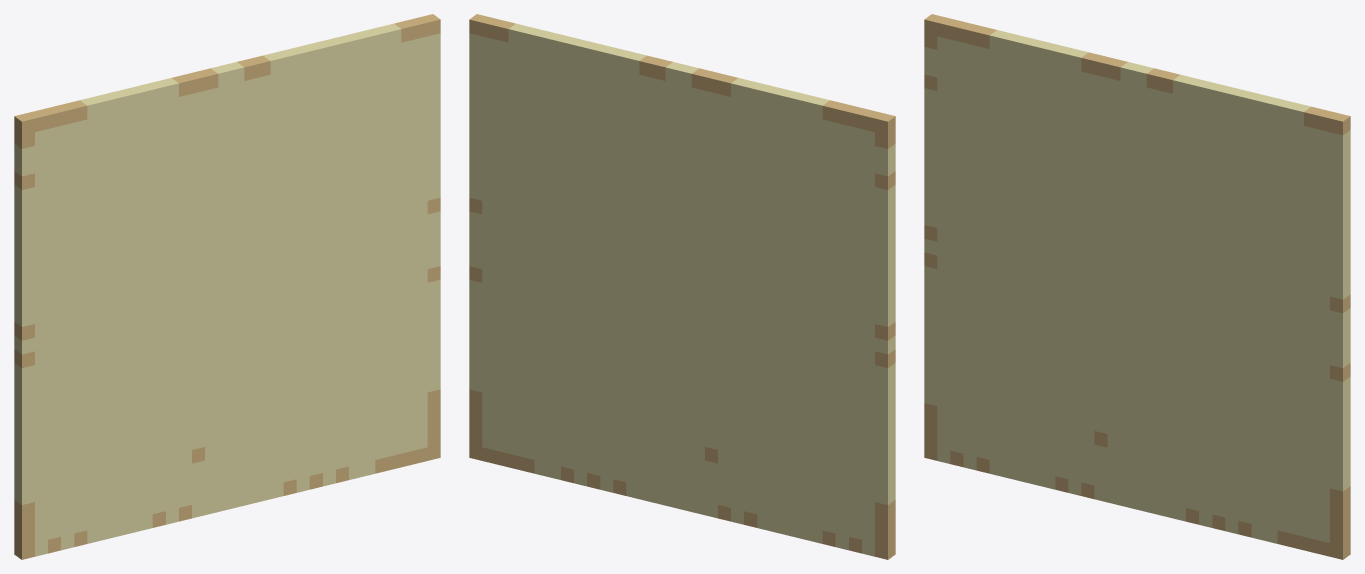
3 views of the same model, side by side, from view 1: azimuth 30°, elevation 25°; view 2: azimuth 150°, elevation 25°; view 3: azimuth 330°, elevation 25° (orthographic).
Visible parts, largest first — view 1: test-29; view 2: test-29; view 3: test-29.
Part boxes in pixels (left/top/right/bottom): test-29: left=14, top=14, right=440, bottom=559; test-29: left=469, top=14, right=895, bottom=559; test-29: left=924, top=14, right=1350, bottom=559.
Size of the model in its own units: 32 by 32 by 1.
1 material, 1 textured.
